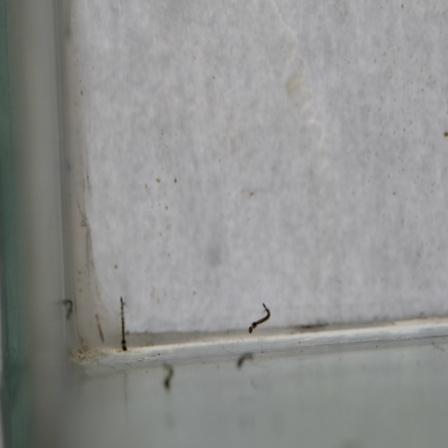Jentik-Nyamuk: (242, 300, 272, 336), (116, 293, 131, 356)
